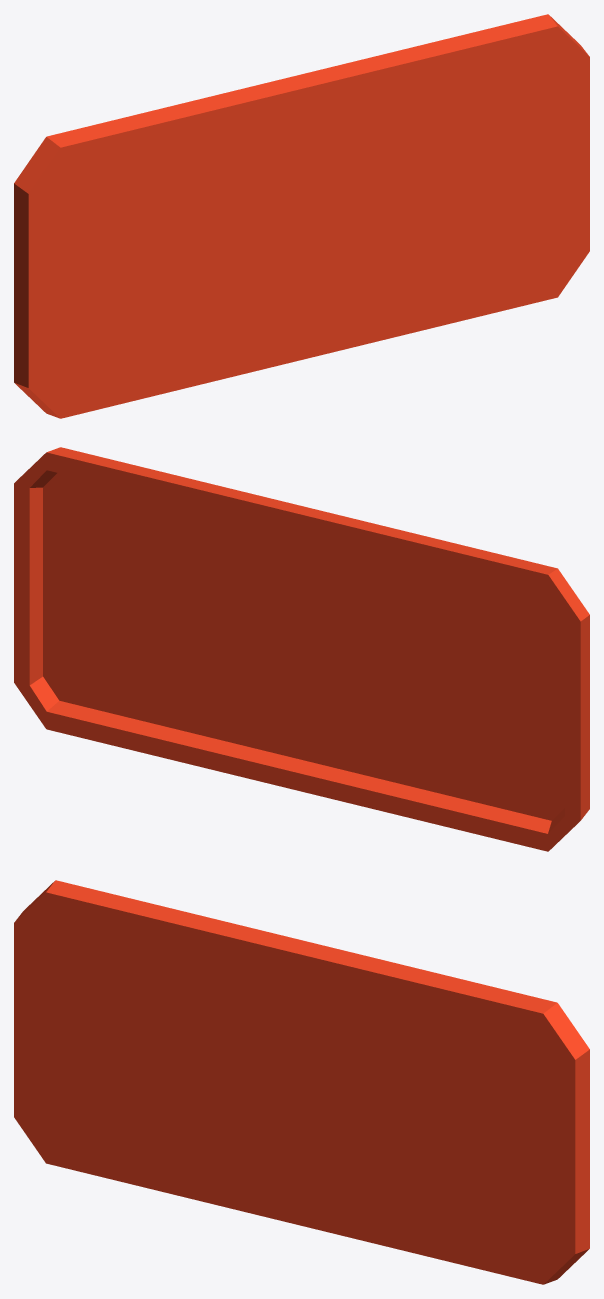
Rendered from SM_Sign_North_A_City.fbx.
3 views of the same model, one above another, from view 1: azimuth 30°, elevation 25°; view 2: azimuth 150°, elevation 25°; view 3: azimuth 330°, elevation 25° (orthographic).
Visible parts, largest first — view 1: SM_Sign_North_A_City; view 2: SM_Sign_North_A_City; view 3: SM_Sign_North_A_City.
Part boxes in pixels (box(x1,y1,x2,y2)): SM_Sign_North_A_City: box(14, 14, 589, 418); SM_Sign_North_A_City: box(14, 447, 589, 851); SM_Sign_North_A_City: box(14, 880, 589, 1284).
Bounding box in the file's own units: 0.7368 × 0.3441 × 0.0269.
